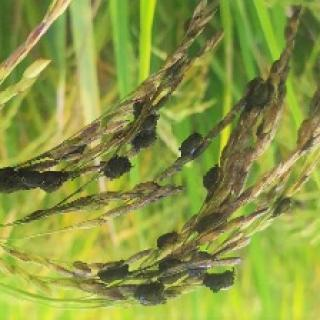Gosong-Palsu: (1, 162, 68, 202), (244, 70, 272, 114), (200, 266, 238, 298), (96, 260, 134, 286), (177, 126, 207, 158), (200, 162, 230, 194), (98, 154, 134, 180)
